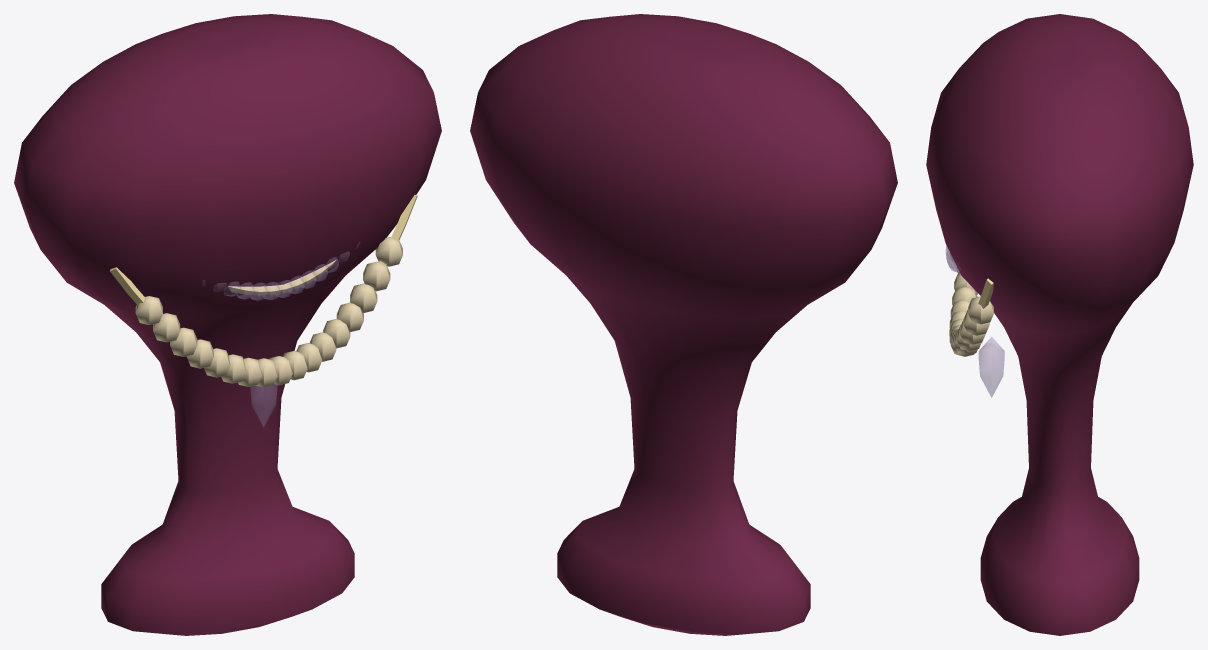
File: bust_necklace_stand.glb
3 renders of one model, left to right at view 1: azimuth 30°, elevation 25°; view 2: azimuth 150°, elevation 25°; view 3: azimuth 270°, elevation 25°, orthographic. The views are drawn at different scales.
Visible parts, largest first — view 1: bust_necklace_stand; view 2: bust_necklace_stand; view 3: bust_necklace_stand.
Boxes of the visible parts, box(x1,y1,x2,y2) form: bust_necklace_stand: box(14, 14, 441, 635); bust_necklace_stand: box(470, 14, 897, 635); bust_necklace_stand: box(926, 14, 1193, 635).
Size of the model in its own units: 0.297 by 0.396 by 0.1782.
